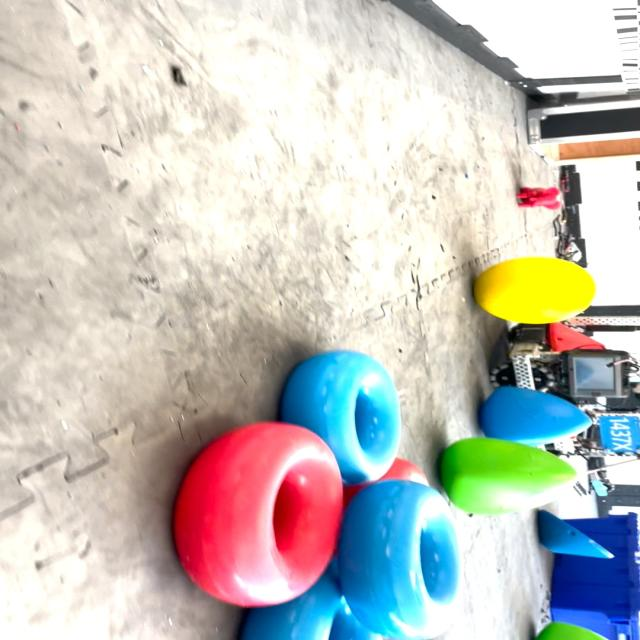Blue-Ring: (338, 480, 460, 640), (280, 351, 400, 484), (240, 570, 382, 640)
Red-Ring: (173, 422, 342, 608)
